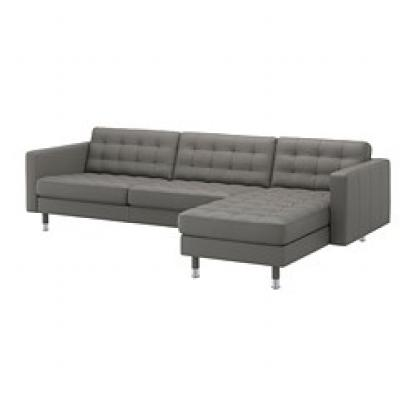Sofa: (18, 91, 396, 298)
